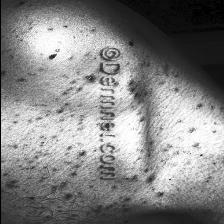Non-Cancerous Skin Condition: (0, 44, 95, 224), (129, 104, 212, 210)
